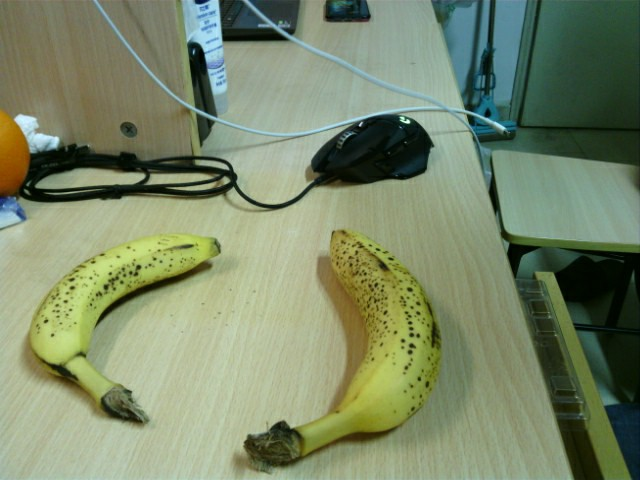normal_banana: (245, 229, 442, 470), (30, 235, 223, 426)
